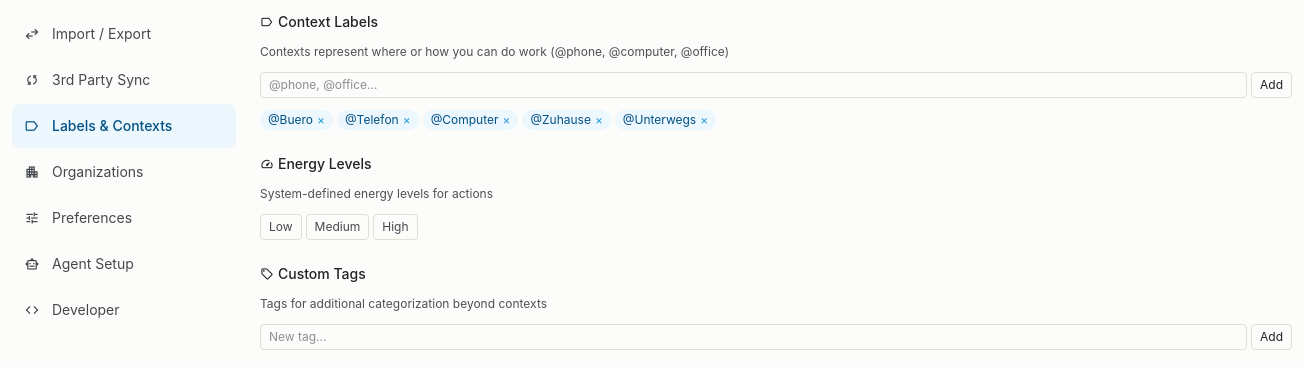
Scenario: SettingsScreen › can add and remove contexts in the Labels tab
Expected: the text "@Buero" is shown, 268,112 -> 313,127
Type "@Draussen" into the field with placeholder "@phone, @office...".
click(754, 85); type("@Draussen")  # box 260,72 -> 1247,98
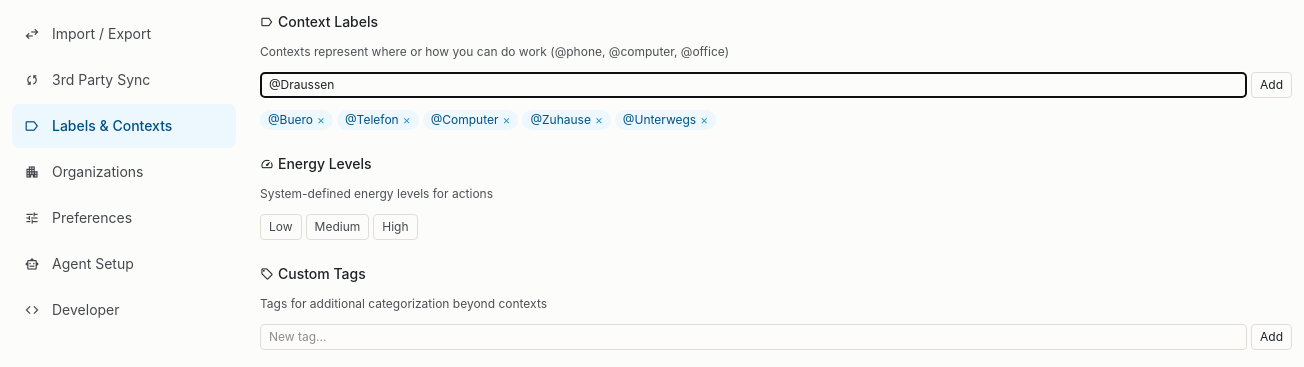
Click the 1st button "Add".
click(1272, 85)  # box 1251,72 -> 1292,98
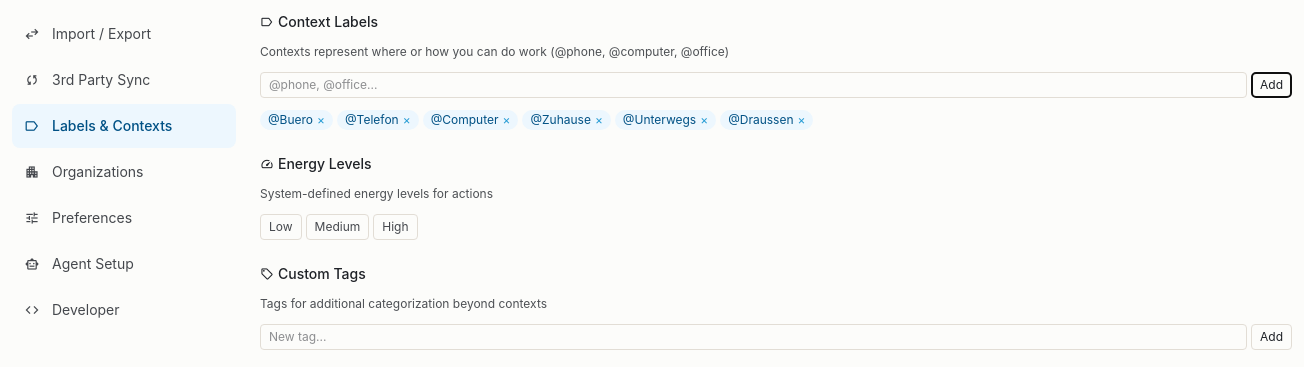
Expected: the text "@Draussen" is shown, 728,112 -> 794,127
Click the button named "Remove @Buero".
click(321, 120)  # box 317,112 -> 325,128
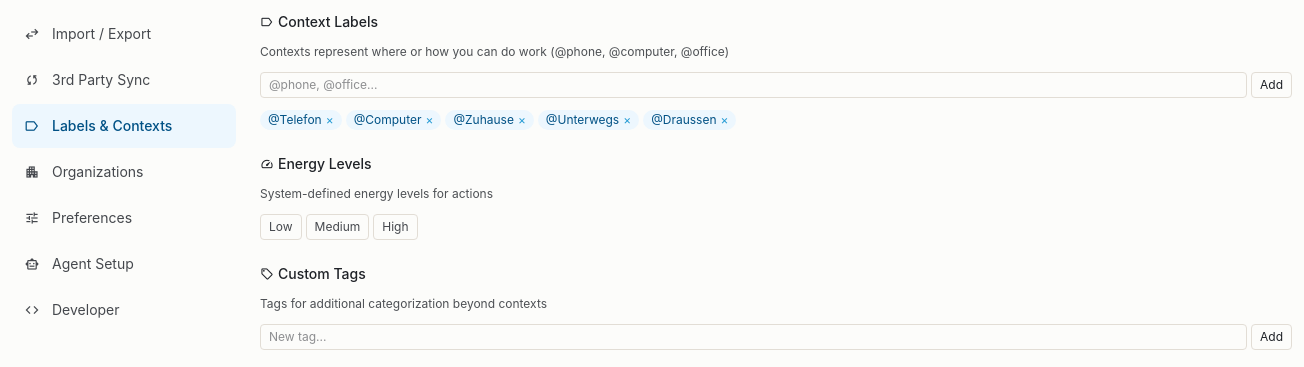
Expected: the text "@Buero" is gone
